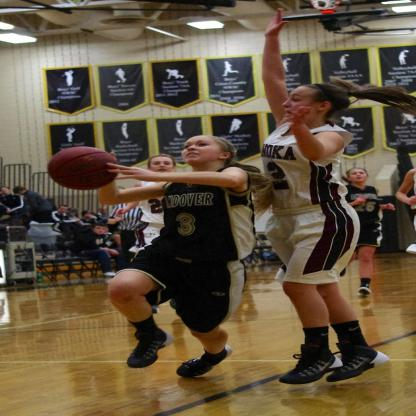Ball: (46, 143, 119, 193)
